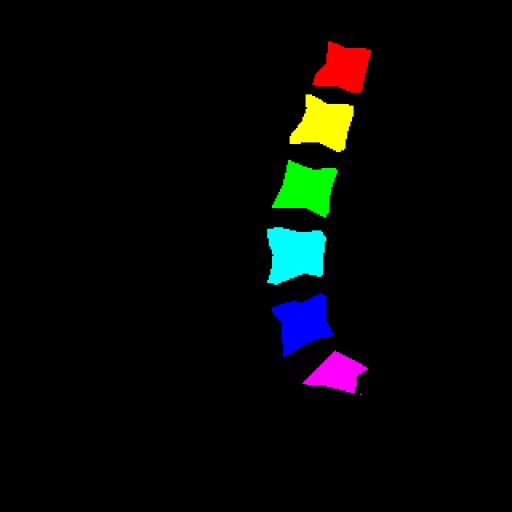L1: (313, 42, 371, 92)
L2: (290, 94, 354, 152)
L3: (272, 160, 337, 218)
L4: (267, 230, 326, 284)
L5: (272, 295, 333, 356)
S1: (303, 351, 368, 394)
